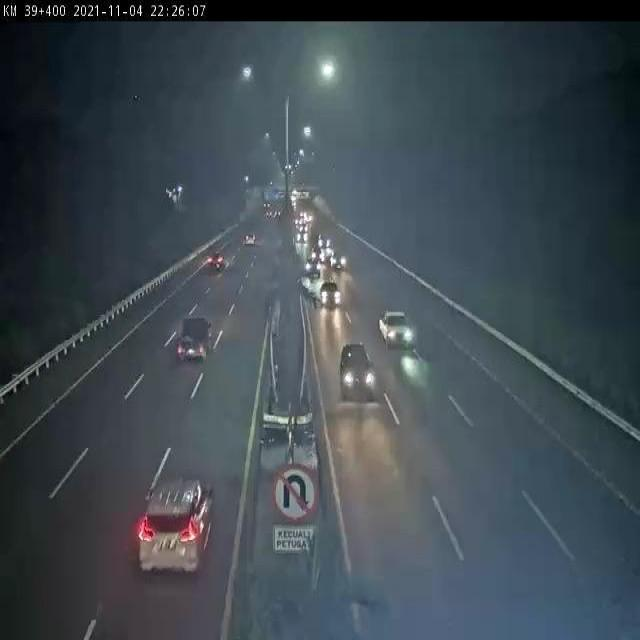car: (136, 471, 223, 578), (377, 292, 417, 360), (344, 348, 373, 405), (204, 251, 225, 284), (322, 273, 336, 308), (240, 235, 258, 260)
truck-s-: (165, 297, 217, 375)
